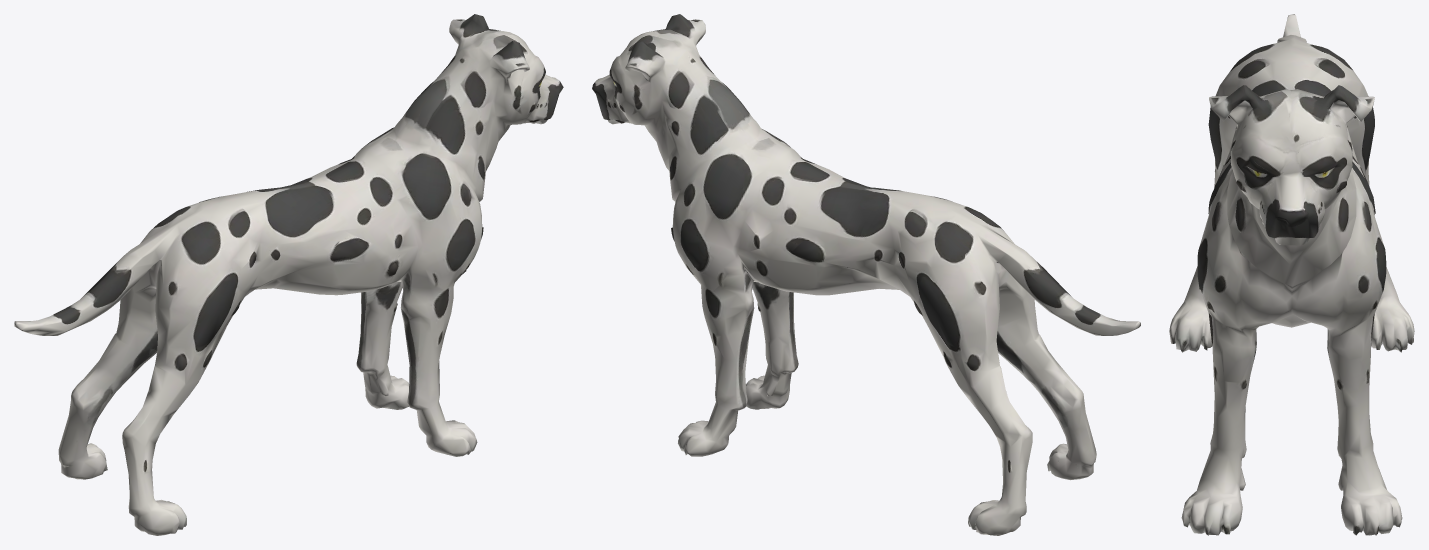
The model's file is hogen.glb.
3 renders of one model, left to right at view 1: azimuth 30°, elevation 25°; view 2: azimuth 150°, elevation 25°; view 3: azimuth 270°, elevation 25°, orthographic. The views are drawn at different scales.
Parts seen in each view (by area): view 1: tripo_node_8476359e-5ad7-443c-9542-b560af49a8d7; view 2: tripo_node_8476359e-5ad7-443c-9542-b560af49a8d7; view 3: tripo_node_8476359e-5ad7-443c-9542-b560af49a8d7.
Boxes of the visible parts, box(x1,y1,x2,y2) form: tripo_node_8476359e-5ad7-443c-9542-b560af49a8d7: box(14, 14, 563, 535); tripo_node_8476359e-5ad7-443c-9542-b560af49a8d7: box(592, 14, 1140, 535); tripo_node_8476359e-5ad7-443c-9542-b560af49a8d7: box(1169, 14, 1414, 535).
Bounding box in the file's own units: 0.9997 × 0.6725 × 0.306.
1 material, 1 textured.
